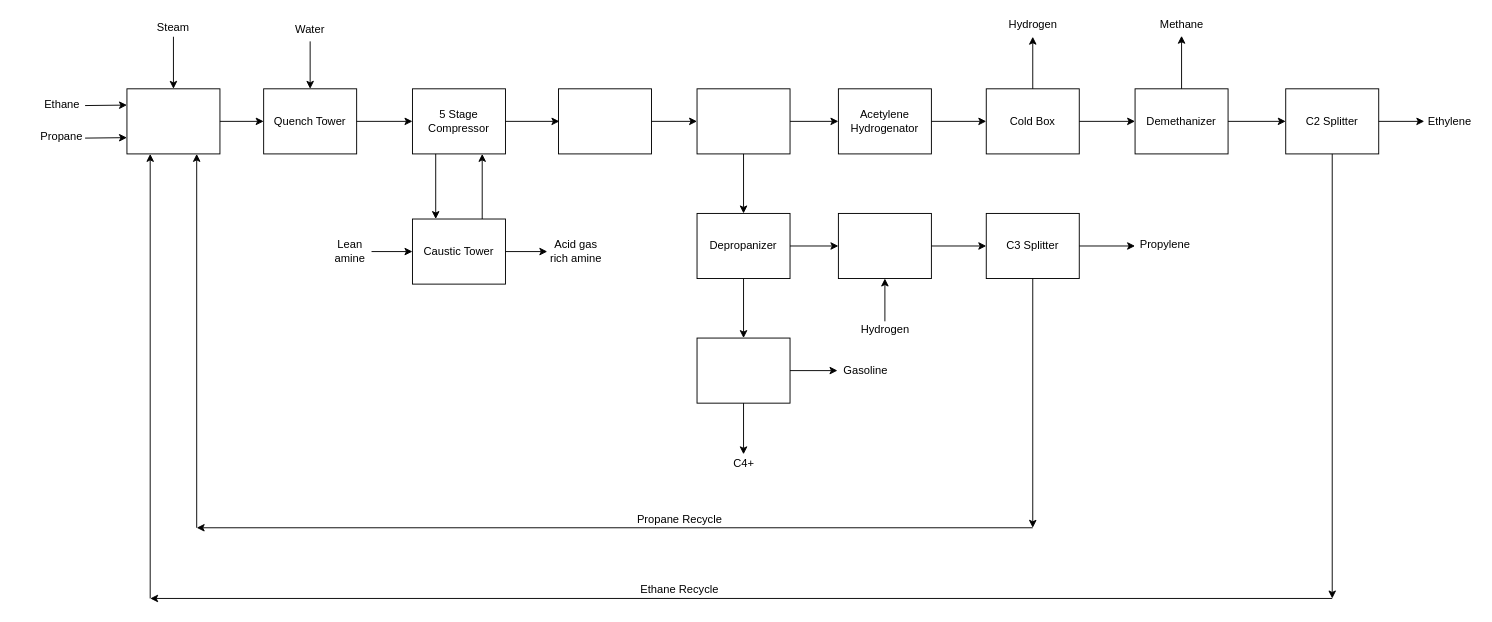
The diagram is 1492 pixels wide and 622 high, and some of its shapes have lost their labels. The shapes that lost their labels are listed below. From the top down, each one's box as (x1, y1, x2, y2) in pixels, then its label:
(126, 88, 220, 154): Steam Cracker
(558, 88, 651, 154): Dryer
(696, 88, 790, 154): Deethanizer
(837, 213, 931, 279): MAPD Hydrogenator
(696, 337, 790, 403): Debutanizer
